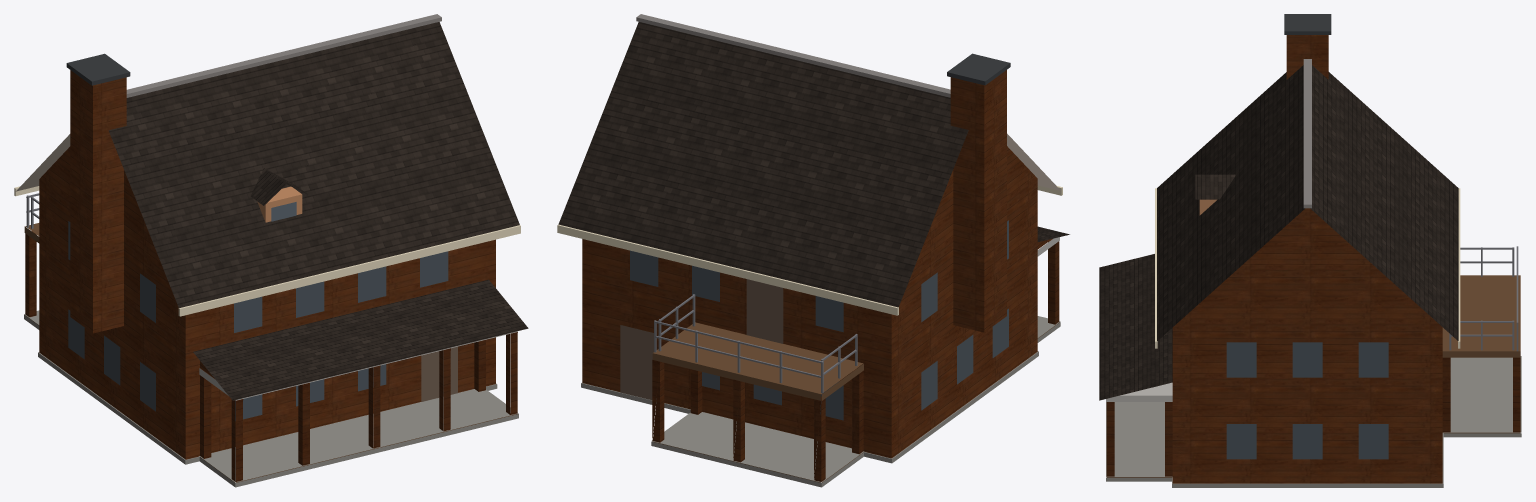
The model's file is rw-log-house.zfix-v22.lod1.glb.
The picture shows the model from 3 angles, left to right: view 1: azimuth 30°, elevation 25°; view 2: azimuth 150°, elevation 25°; view 3: azimuth 270°, elevation 25°; orthographic projection. The views are drawn at different scales.
Visible parts, largest first — view 1: rw-log-house; view 2: rw-log-house; view 3: rw-log-house.
Part boxes in pixels (<box>): rw-log-house: <box>14,14,528,487</box>; rw-log-house: <box>557,14,1069,487</box>; rw-log-house: <box>1099,14,1521,487</box>.
Bounding box in the file's own units: 12.78 × 11.76 × 14.08.
Materials: 3 (2 with a texture image).
